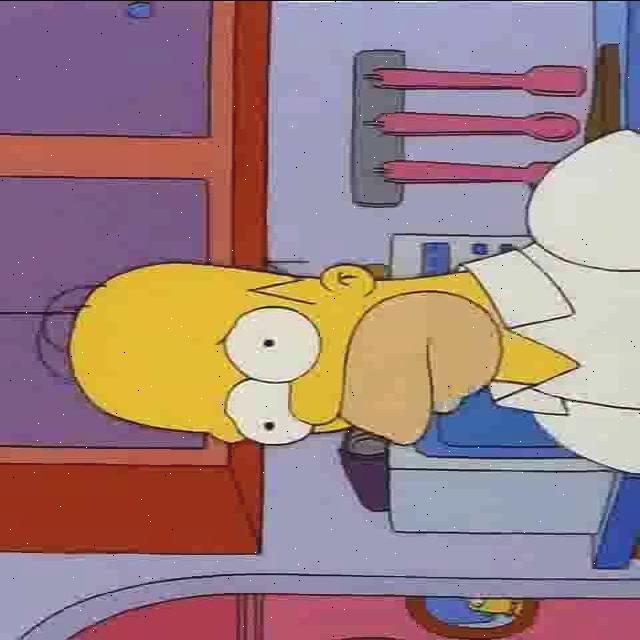Homer Simpson: (39, 258, 518, 442)
Marge Simpson: (420, 590, 524, 624)
